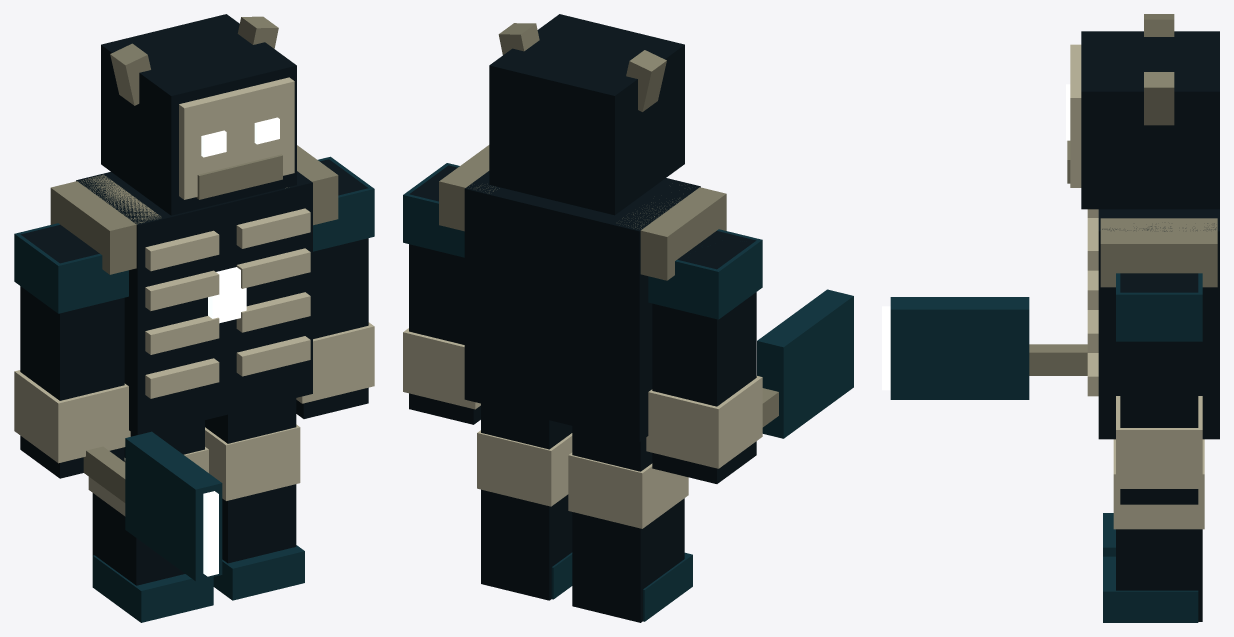
File: sculk_brute.glb
The picture shows the model from 3 angles, left to right: view 1: azimuth 30°, elevation 25°; view 2: azimuth 150°, elevation 25°; view 3: azimuth 270°, elevation 25°; orthographic projection.
Parts seen in each view (by area): view 1: Torso_m, Arm_R_m, Head_m, Leg_L_m, Arm_L_m, Leg_R_m, Torso_emit, Arm_R_emit, Head_emit; view 2: Torso_m, Arm_R_m, Head_m, Leg_R_m, Leg_L_m, Arm_L_m; view 3: Head_m, Arm_L_m, Torso_m, Arm_R_m, Leg_L_m, Arm_R_emit, Leg_R_m.
Boxes of the visible parts, box(x1,y1,x2,y2) form: Torso_m: box(50, 145, 338, 435); Arm_R_m: box(14, 223, 222, 581); Head_m: box(101, 14, 296, 215); Leg_L_m: box(205, 398, 304, 600); Arm_L_m: box(296, 156, 374, 418); Leg_R_m: box(88, 420, 213, 622); Torso_emit: box(208, 267, 246, 323); Arm_R_emit: box(203, 491, 218, 576); Head_emit: box(201, 117, 279, 157); Torso_m: box(439, 145, 726, 442); Arm_R_m: box(646, 229, 853, 483); Head_m: box(489, 14, 684, 215); Leg_R_m: box(568, 426, 692, 622); Leg_L_m: box(477, 403, 572, 600); Arm_L_m: box(403, 163, 480, 424); Head_m: box(1067, 14, 1219, 209); Arm_L_m: box(1116, 273, 1202, 504); Torso_m: box(1087, 209, 1219, 439); Arm_R_m: box(890, 297, 1087, 399); Leg_L_m: box(1103, 439, 1204, 622); Arm_R_emit: box(882, 306, 890, 390); Leg_R_m: box(1103, 513, 1115, 556).
Size of the model in its own units: 1.66 by 2.74 by 1.56.
